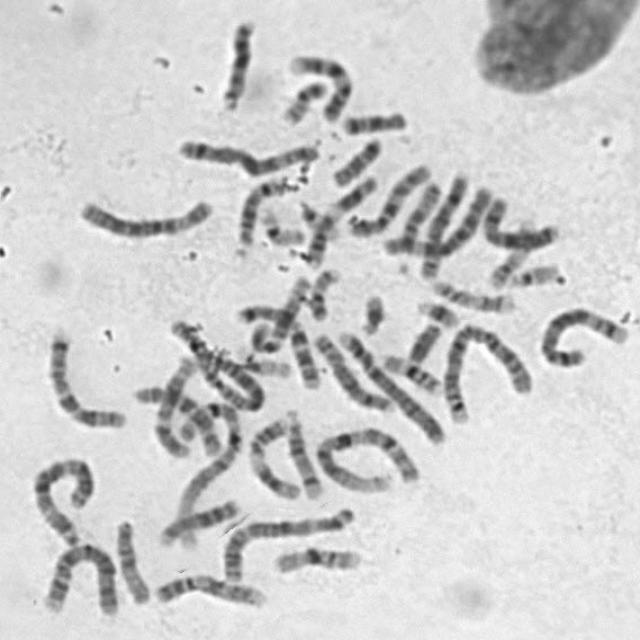A1: (159, 392, 245, 549), (309, 421, 422, 494)
A2: (436, 318, 536, 426), (166, 312, 266, 413)
A3: (217, 502, 360, 584), (26, 450, 99, 547)
B4: (332, 327, 445, 445), (37, 538, 123, 618)
B5: (534, 300, 634, 370), (172, 132, 321, 176)
C10: (129, 380, 226, 458), (344, 157, 435, 240)
C11: (300, 170, 382, 269), (243, 409, 304, 502)
C12: (244, 272, 314, 355), (147, 353, 199, 459)
C6: (375, 178, 497, 258), (73, 192, 217, 240)
C7: (41, 324, 130, 431), (232, 298, 324, 392)
C8: (310, 326, 397, 416), (415, 166, 474, 282)
C9: (282, 48, 354, 124), (150, 568, 271, 612)
D13: (154, 492, 244, 548), (215, 12, 259, 113)
D14: (232, 171, 294, 250), (279, 403, 327, 502)
D15: (385, 176, 445, 258), (110, 514, 153, 606)
E16: (268, 540, 364, 576), (378, 347, 445, 397)
E17: (484, 214, 538, 290), (427, 274, 518, 314)
E18: (327, 132, 386, 188), (338, 105, 410, 136)
F19: (254, 202, 307, 248), (230, 345, 294, 380)
F20: (276, 75, 330, 127), (303, 262, 344, 322)
G21: (354, 287, 388, 338), (412, 294, 462, 328)
G22: (295, 197, 344, 242), (502, 258, 562, 290)
X: (478, 191, 564, 252)
Y: (403, 317, 444, 365)
